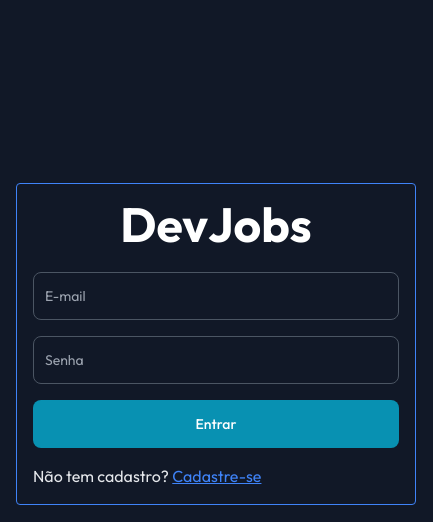
Scenario: Login Page › Failed auth with incorrect info
The width and height of the screenshot is (433, 522).
Type "example@gmail.com" into the field with id "email-input".
click(216, 296); type("example@gmail.com")  # box [33,272,399,320]
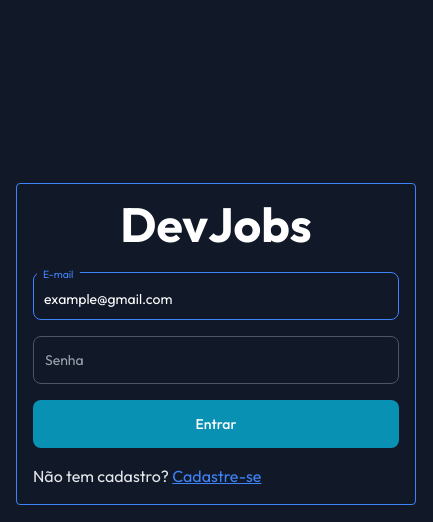
Type "123456456456" into the password field labelled "Senha".
click(216, 360); type("123456456456")  # box [33,336,399,384]
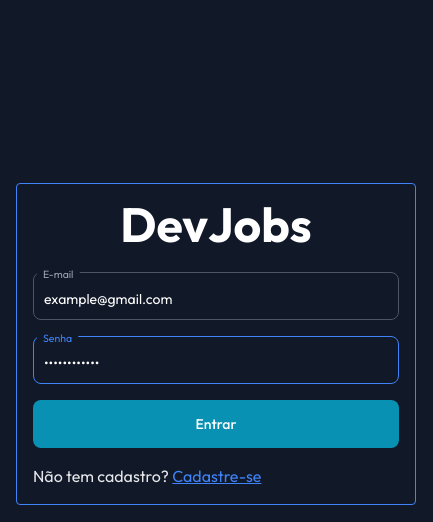
Click the submit button.
click(216, 424)  # box [33,400,399,448]
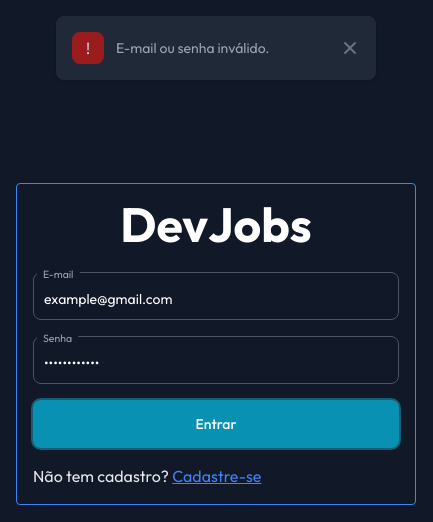
Result: the element with test id "flowbite-toast" is shown at [56,16,376,80]
Result: the text "E-mail ou senha inválido." is shown at [116,38,269,58]
